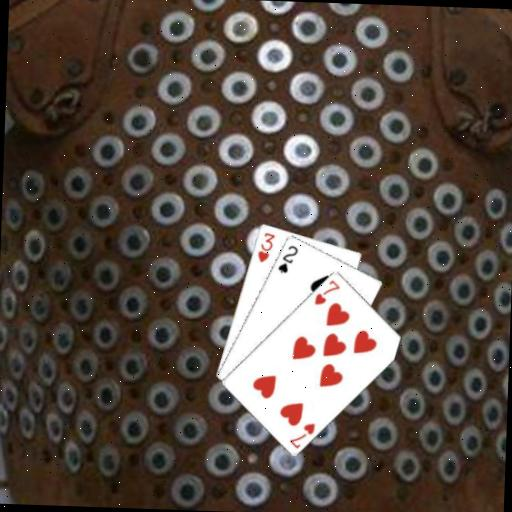2S: (274, 241, 299, 274)
3H: (254, 228, 277, 264)
7H: (311, 275, 342, 307), (286, 419, 316, 450)
